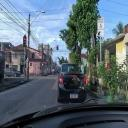NoEstacionar: (26, 57, 29, 63)
